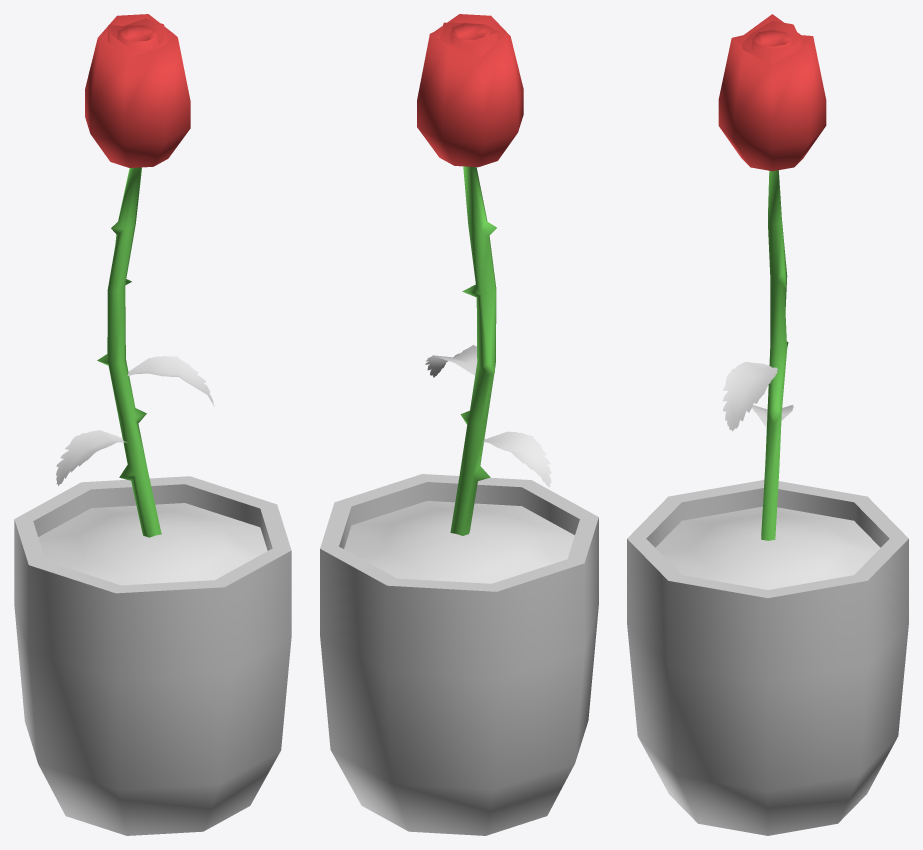
The model's file is Plant Vase 2.fbx.
3 views of the same model, side by side, from view 1: azimuth 30°, elevation 25°; view 2: azimuth 150°, elevation 25°; view 3: azimuth 270°, elevation 25° (orthographic). The views are drawn at different scales.
Visible parts, largest first — view 1: VasePlant1; view 2: VasePlant1; view 3: VasePlant1.
Boxes of the visible parts, x1,y1,x2,y2 form: VasePlant1: (14, 14, 291, 835); VasePlant1: (320, 14, 598, 835); VasePlant1: (627, 14, 908, 835).
Bounding box in the file's own units: 0.1882 × 0.5575 × 0.1882.
